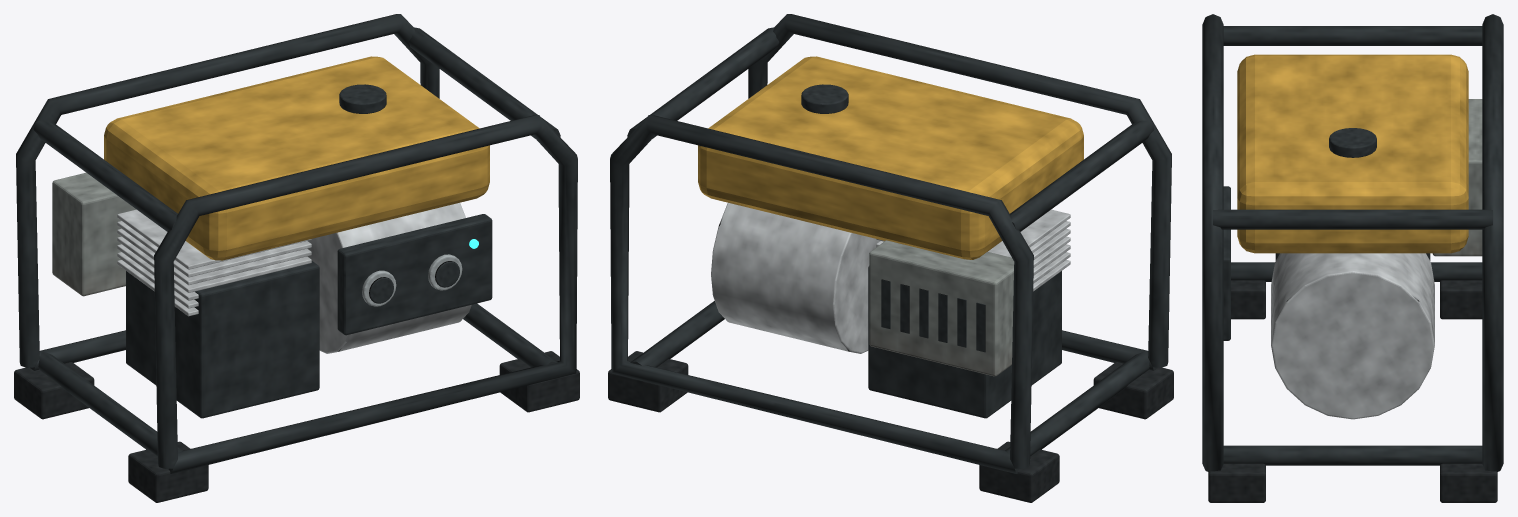
The model's file is GR_Generator_01.glb.
The picture shows the model from 3 angles, left to right: view 1: azimuth 30°, elevation 25°; view 2: azimuth 150°, elevation 25°; view 3: azimuth 270°, elevation 25°; orthographic projection.
Parts seen in each view (by area): view 1: Static; view 2: Static; view 3: Static.
Part boxes in pixels (x1,y1,x2,y2): Static: (14, 14, 579, 502); Static: (608, 14, 1173, 502); Static: (1202, 14, 1503, 502).
Bounding box in the file's own units: 1.03 × 0.6798 × 0.624.
Materials: 2 (2 with a texture image).
